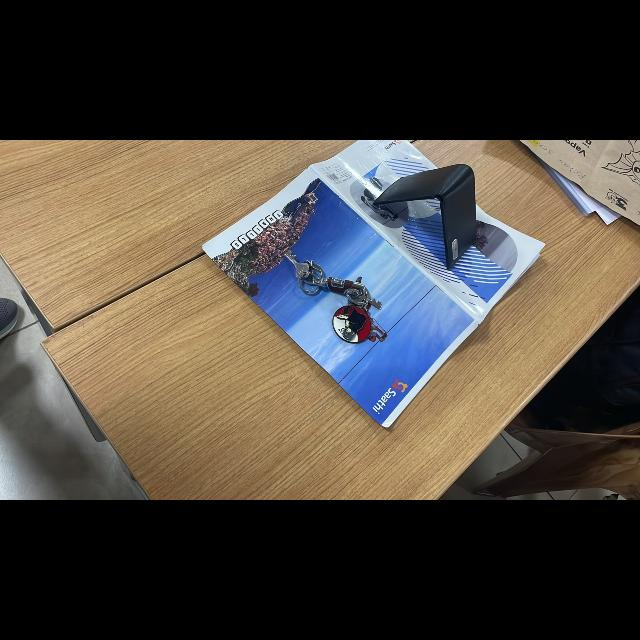keys: (277, 242, 395, 364)
